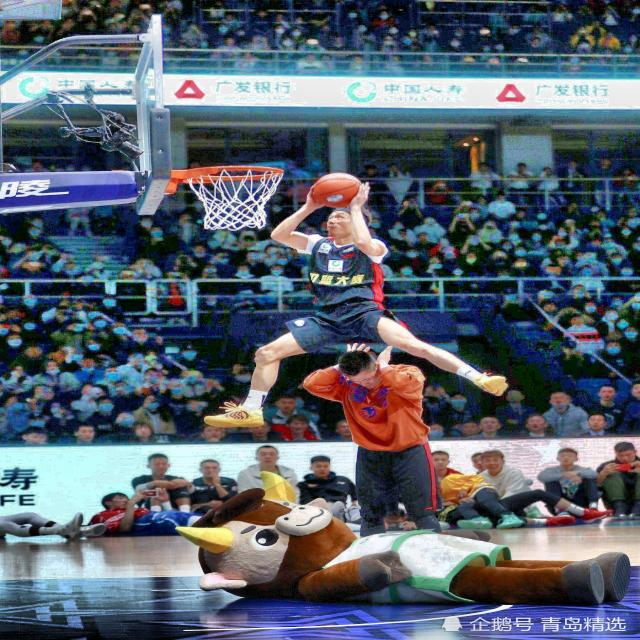board: (314, 173, 360, 208)
rim: (187, 166, 282, 229)
